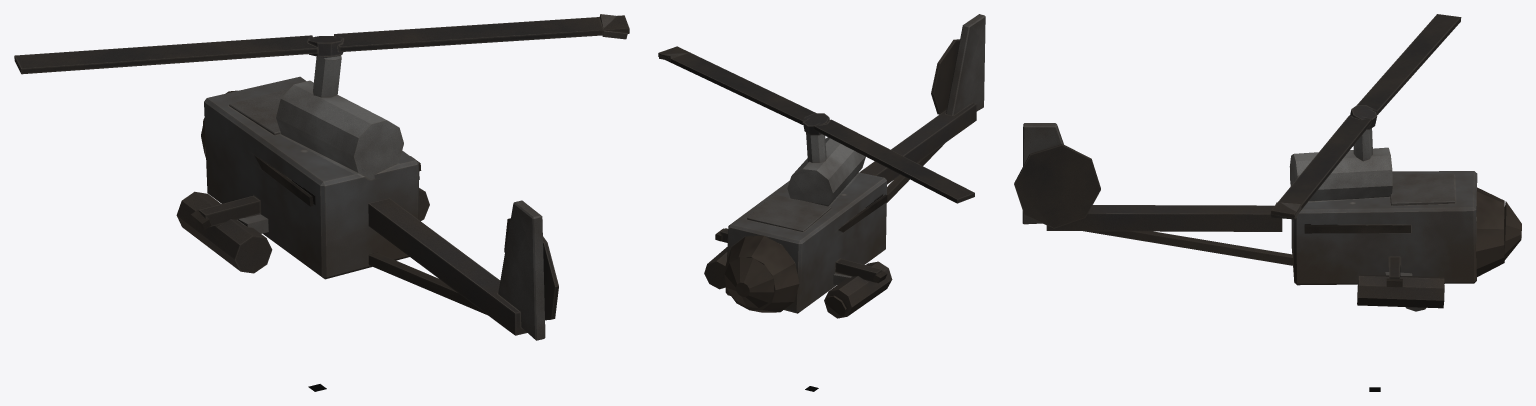
Rendered from chs_wasp_wreck.fbx.
3 views of the same model, side by side, from view 1: azimuth 30°, elevation 25°; view 2: azimuth 150°, elevation 25°; view 3: azimuth 270°, elevation 25° (orthographic). The views are drawn at different scales.
Parts seen in each view (by area): view 1: base_bar, rotor_bar, pylon_bar, tailRotor_bar; view 2: base_bar, rotor_bar, pylon_bar, tailRotor_bar; view 3: base_bar, rotor_bar, tailRotor_bar, pylon_bar.
Boxes of the visible parts, x1,y1,x2,y2 form: base_bar: (191,55,545,340); rotor_bar: (14,14,629,74); pylon_bar: (176,188,429,273); tailRotor_bar: (504,218,558,320); base_bar: (715,14,985,313); rotor_bar: (658,46,974,203); pylon_bar: (704,247,892,318); tailRotor_bar: (931,39,959,114); base_bar: (1022,123,1521,311); rotor_bar: (1270,14,1461,219); tailRotor_bar: (1014,144,1100,228); pylon_bar: (1357,272,1444,308).
Bounding box in the file's own units: 834 × 554 × 911.
Materials: 2 (2 with a texture image).
